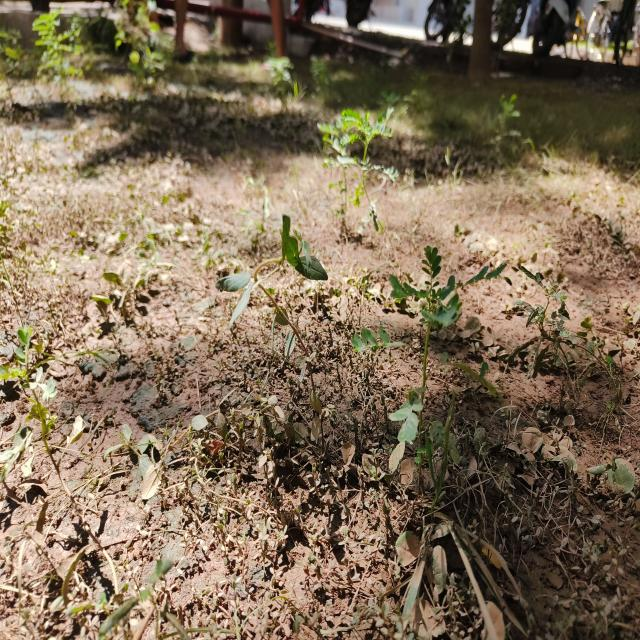weed: (384, 240, 466, 482)
